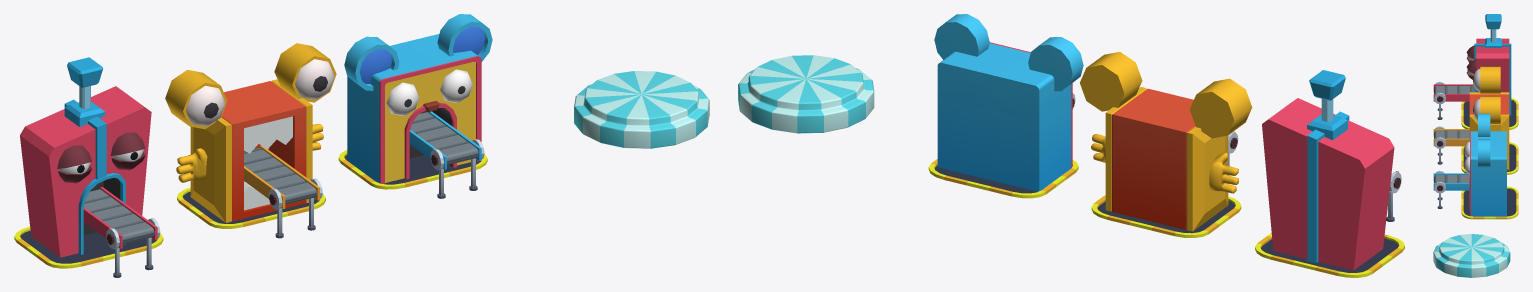
Rendered from head_map.FBX.
The picture shows the model from 3 angles, left to right: view 1: azimuth 30°, elevation 25°; view 2: azimuth 150°, elevation 25°; view 3: azimuth 270°, elevation 25°; orthographic projection. The views are drawn at different scales.
Visible parts, largest first — view 1: head_map3, head_map4, head_map2, bucc, map1_extracted_05 (×3), extracted_023 (×3), extracted_027 (×3); view 2: head_map4, head_map3, head_map2, bucc, map1_extracted_05 (×3); view 3: head_map4, bucc, head_map3, head_map2, map1_extracted_05 (×3), extracted_023 (×3), extracted_029 (×3), extracted_026 (×3), extracted_027 (×3).
Boxes of the visible parts, box(x1,y1,x2,y2) form: head_map3: box(165, 43, 336, 222); head_map4: box(344, 14, 492, 184); head_map2: box(20, 57, 151, 257); bucc: box(574, 71, 709, 148); map1_extracted_05 (×3): box(14, 150, 487, 268); extracted_023 (×3): box(84, 112, 478, 244); extracted_027 (×3): box(83, 130, 446, 248); head_map4: box(934, 14, 1083, 191); head_map3: box(1080, 52, 1252, 231); head_map2: box(1262, 70, 1394, 270); bucc: box(738, 55, 874, 133); map1_extracted_05 (×3): box(928, 159, 1404, 277); head_map4: box(1464, 113, 1506, 216); bucc: box(1433, 234, 1510, 277); head_map3: box(1469, 66, 1509, 170); head_map2: box(1466, 14, 1511, 115); map1_extracted_05 (×3): box(1461, 98, 1518, 219); extracted_023 (×3): box(1434, 86, 1473, 182); extracted_029 (×3): box(1433, 94, 1469, 190); extracted_026 (×3): box(1434, 92, 1445, 193); extracted_027 (×3): box(1433, 84, 1473, 180).
Size of the model in its own units: 36.45 by 9.26 by 7.33.
